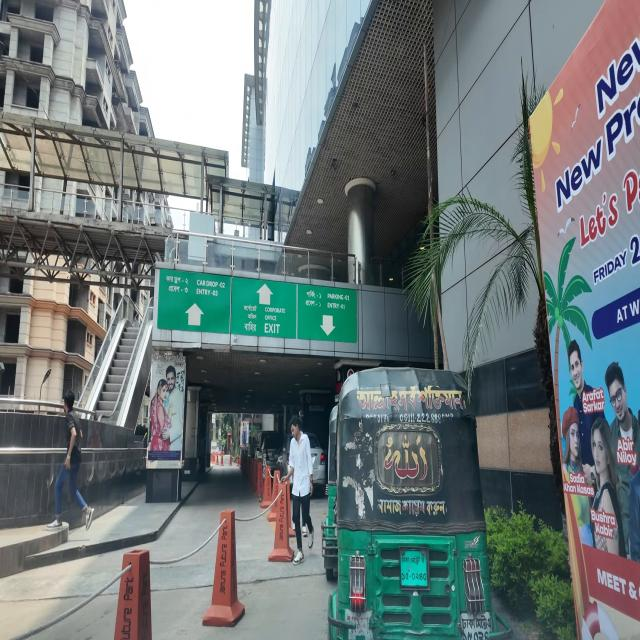person: (279, 417, 314, 566)
